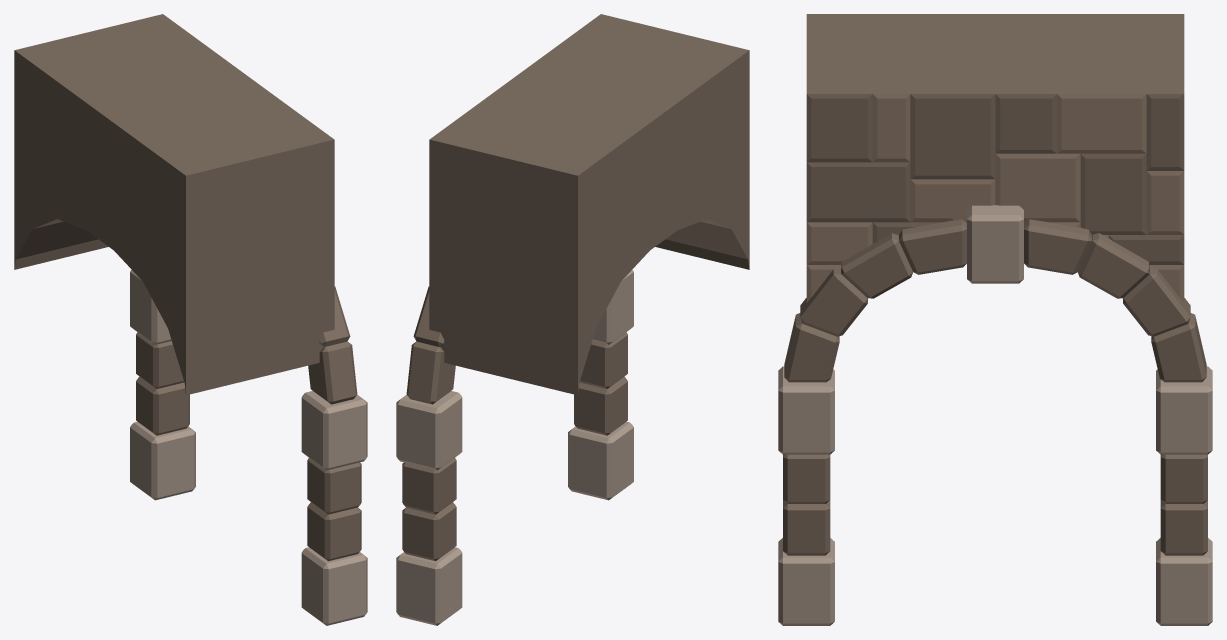
File: Stone_Arch_Outer.obj
The picture shows the model from 3 angles, left to right: view 1: azimuth 30°, elevation 25°; view 2: azimuth 150°, elevation 25°; view 3: azimuth 270°, elevation 25°; orthographic projection. The views are drawn at different scales.
Visible parts, largest first — view 1: object1, object6, object5; view 2: object1, object6, object4, object5; view 3: object6, object1, object5, object4, object2, object3.
Boxes of the visible parts, x1,y1,x2,y2 form: object1: (14, 14, 334, 395); object6: (130, 269, 367, 625); object5: (242, 77, 334, 296); object1: (429, 14, 749, 395); object6: (396, 269, 633, 625); object4: (429, 77, 521, 296); object5: (516, 14, 603, 78); object6: (778, 205, 1212, 625); object1: (806, 14, 1184, 204); object5: (806, 90, 995, 264); object4: (995, 90, 1184, 264); object2: (806, 265, 841, 302); object3: (1149, 265, 1184, 302).
Size of the model in its own units: 1.15 by 3.05 by 2.3.
